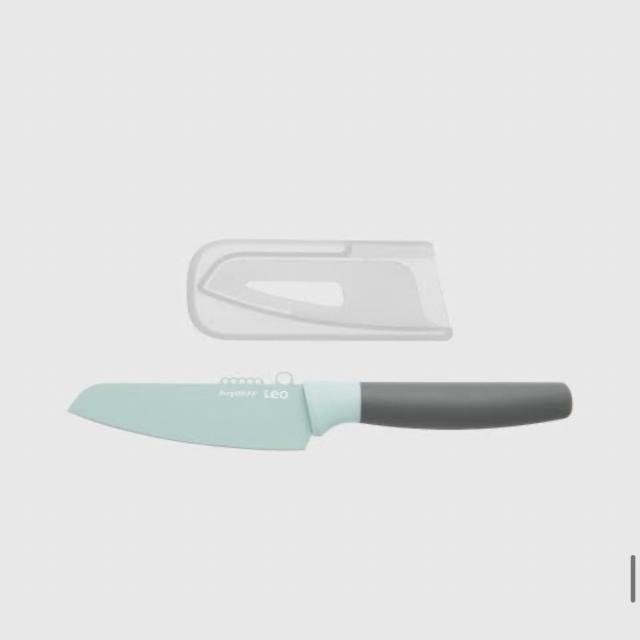Knife: (54, 341, 599, 494)
